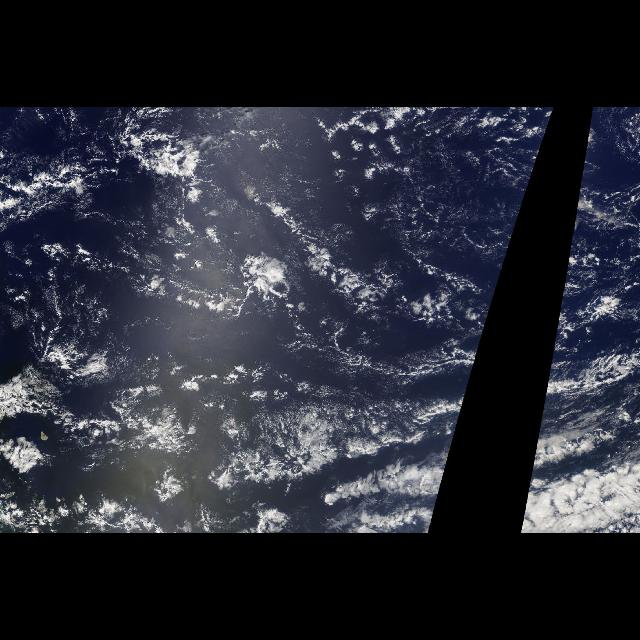Fish: (5, 346, 469, 474), (325, 119, 533, 209)
